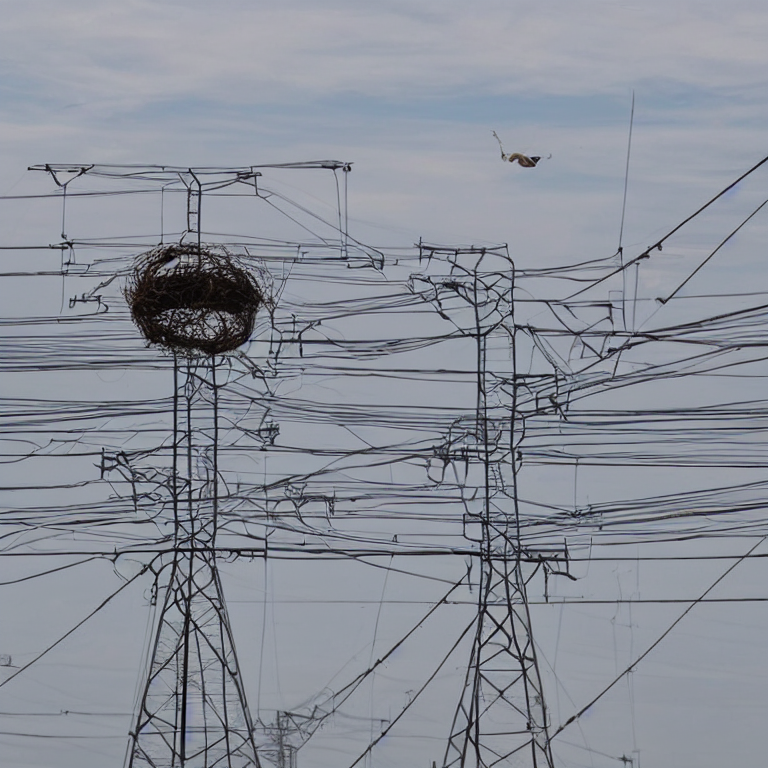nest: (127, 247, 258, 353)
